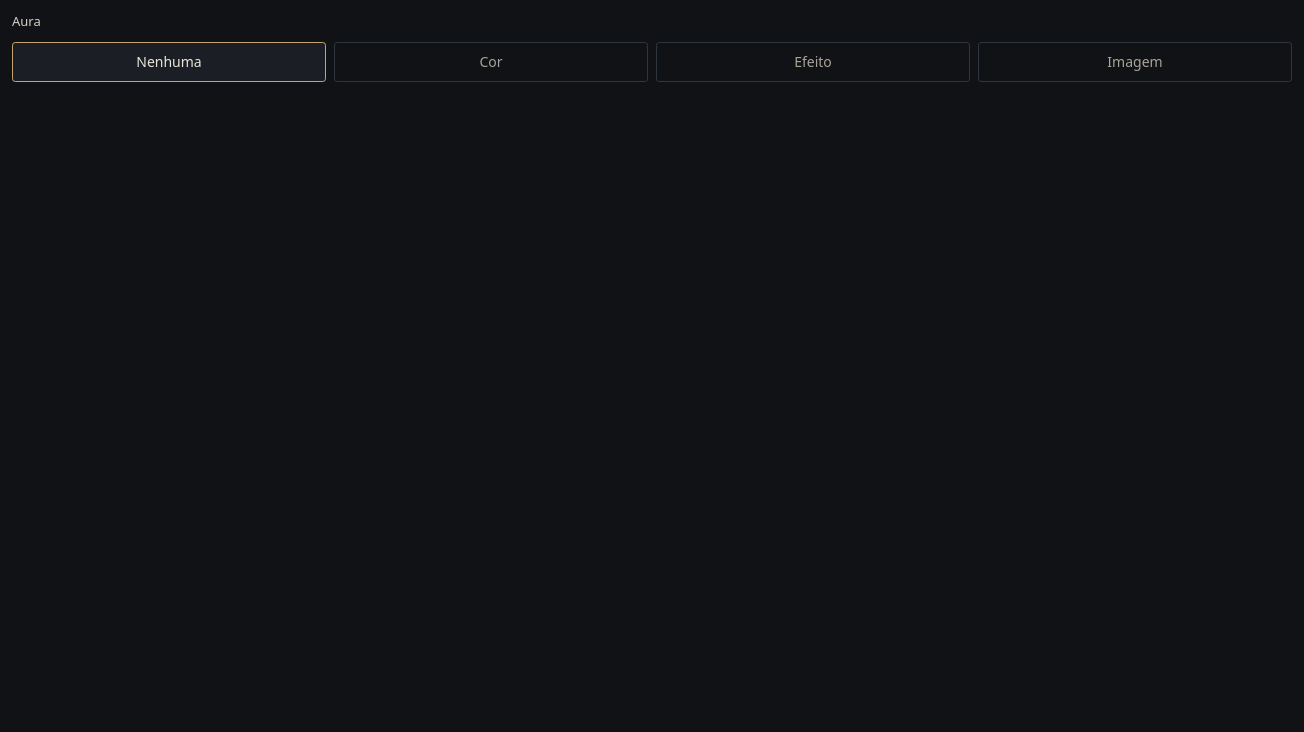
Test case: AuraEditor › an image error is told under the picker
The image size is (1304, 732).
Click the radio button labelled "Imagem" at (1135, 62), box [978,42,1292,82]
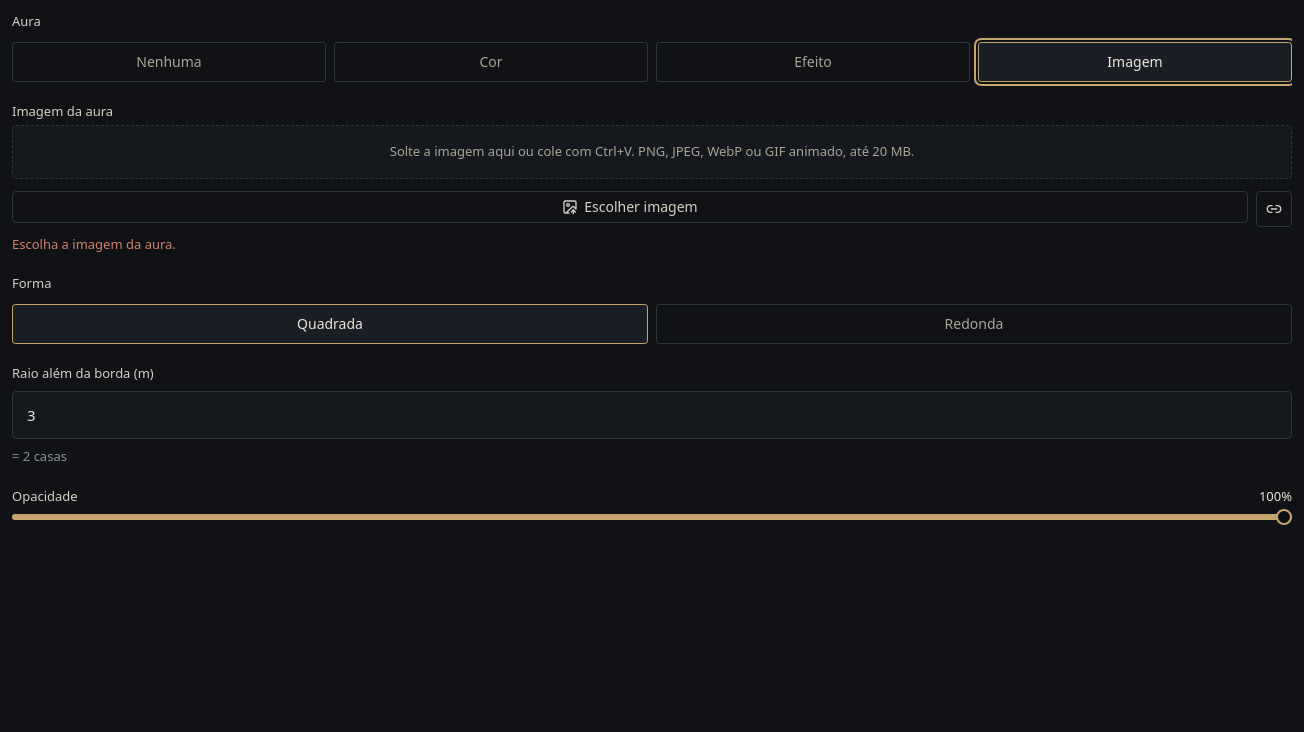
expect the text "Escolha a imagem da aura." is shown: met, box [12,234,176,252]
